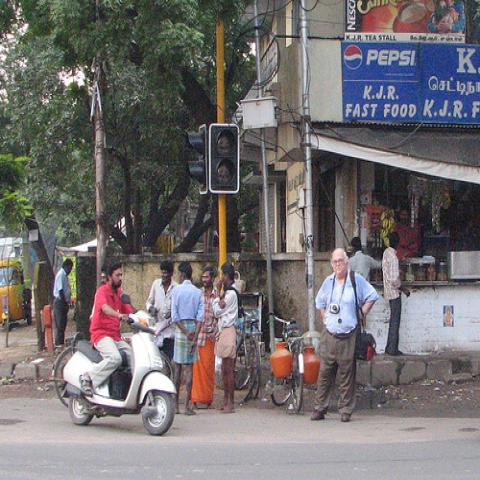motorcycle: (59, 309, 178, 434)
